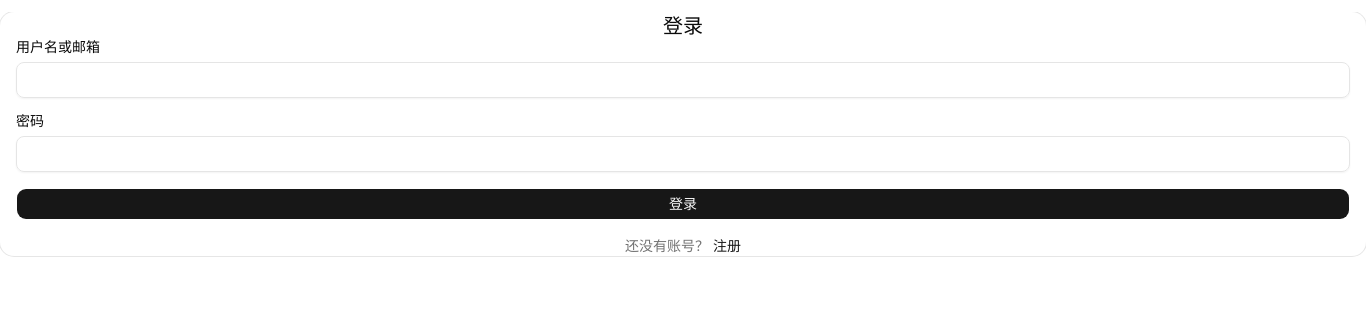
Test: AuthPages › shows login error when credentials are invalid
Type "godbobo" into the field labelled "用户名或邮箱". click: (683, 80)
box: [16,62,1350,98]
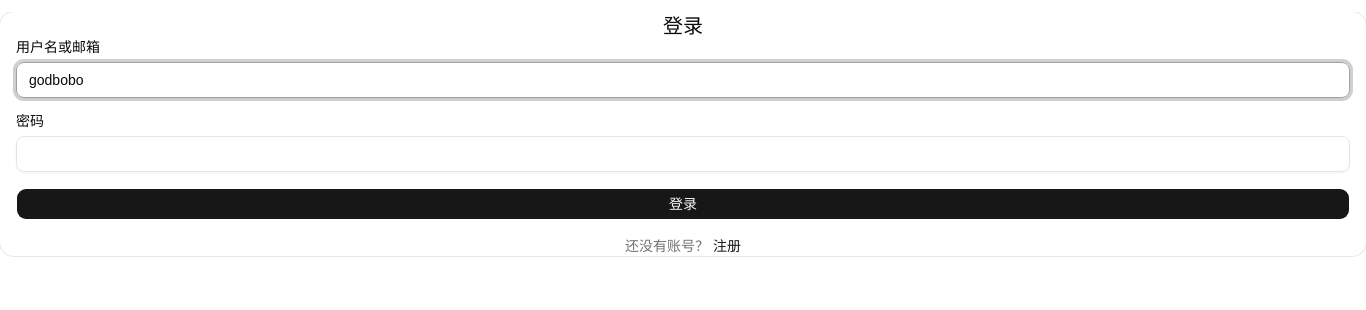
Type "wrong-password" into the password field labelled "密码". click: (683, 154)
box: [16,136,1350,172]
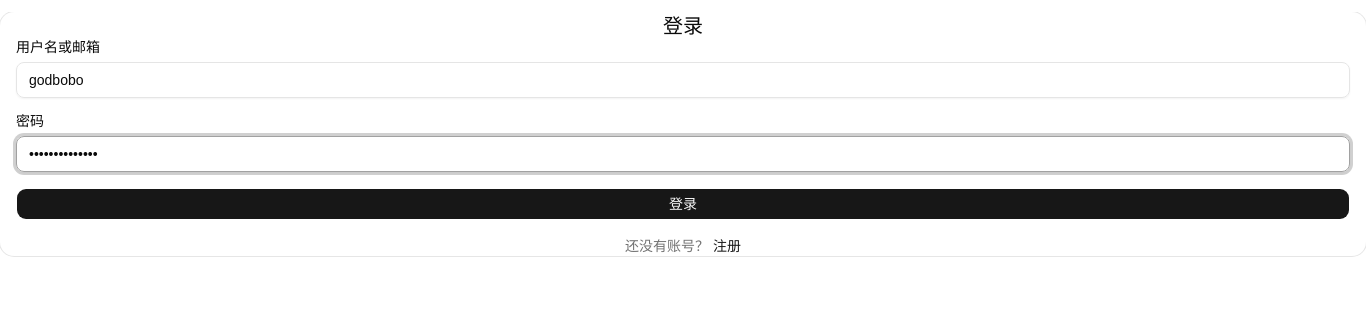
Click the button "登录". click: (683, 204)
box: [16,188,1350,220]
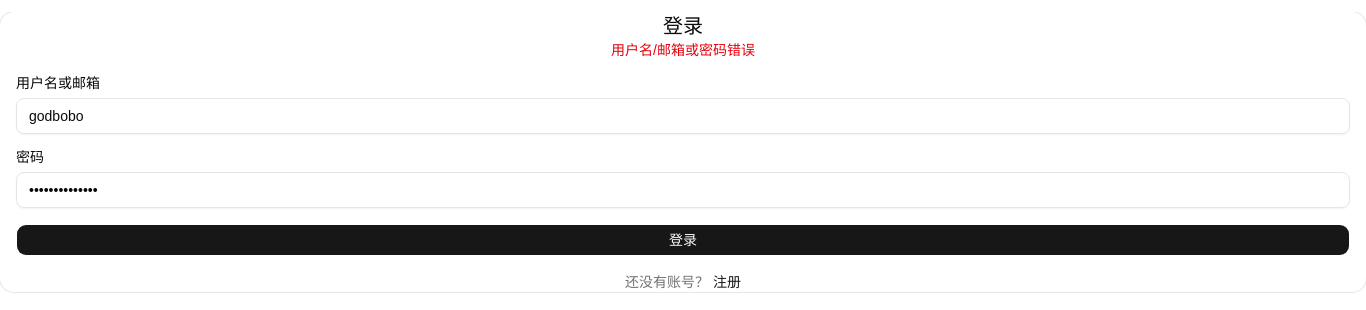
Now the text "用户名/邮箱或密码错误" is shown, box [611,42,755,58]
